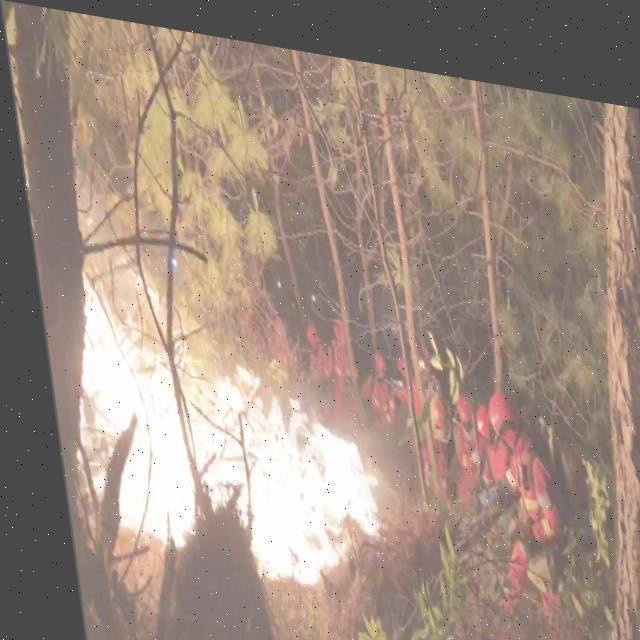Fire: (60, 258, 378, 589)
